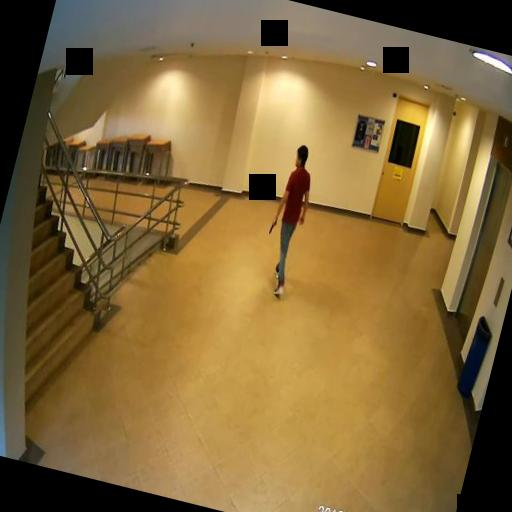Handgun: (268, 214, 278, 232)
